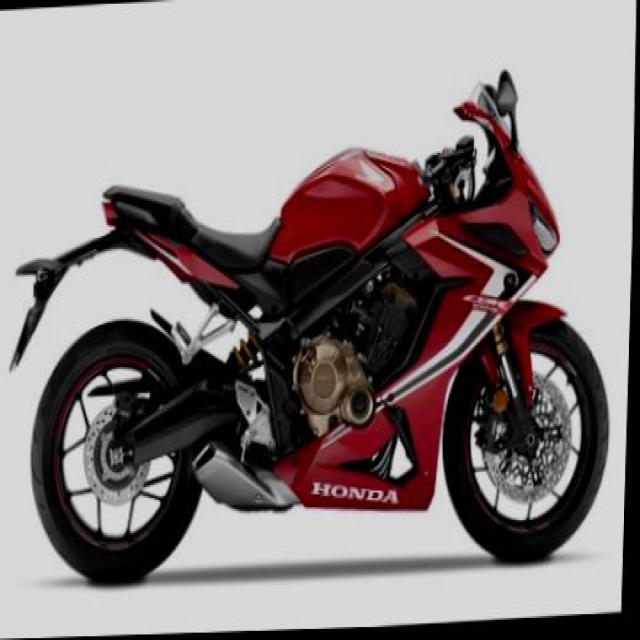CBR650R: (1, 66, 624, 594)
